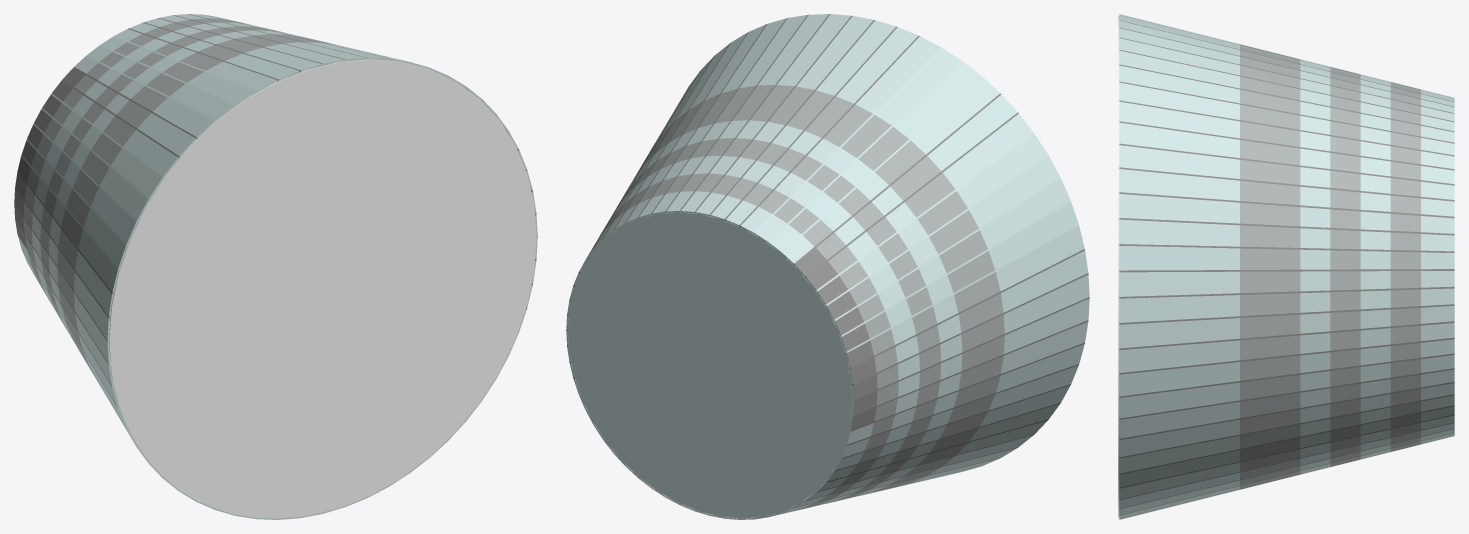
Rendered from observatory.gltf.
3 renders of one model, left to right at view 1: azimuth 30°, elevation 25°; view 2: azimuth 150°, elevation 25°; view 3: azimuth 270°, elevation 25°, orthographic.
Parts seen in each view (by area): view 1: ボディ769; view 2: ボディ768, 柱 (1) (3) (1), 柱 (3) (1), 柱 (1) (1) (2) (1), 柱 (1) (1) (1) (1) (1) (1), 柱 (1) (1) (1) (2) (1), 柱 (1) (1) (1) (1) (3), 窓 (6) (4) (1), 窓 (6) (2) (1) (2), 窓 (6) (1) (1) (1) (1) (2), 窓 (6) (1) (2) (1), 柱 (2) (1) (1); view 3: ボディ769, 柱 (1) (1) (1), 柱 (1) (1) (1) (1), 柱 (1) (2), 柱 (1) (1), 柱 (2), 柱 (1) (1) (1) (1) (1), 柱 (1), 窓 (6) (3), 窓 (6) (1) (1) (1), 窓 (6) (1) (1), 柱 (3) (+212 smaller).
Part boxes in pixels (x1,y1,x2,y2): ボディ769: (109, 59, 536, 518); ボディ768: (567, 212, 852, 518); 柱 (1) (3) (1): (825, 154, 1048, 306); 柱 (3) (1): (816, 133, 1034, 291); 柱 (1) (1) (2) (1): (833, 177, 1060, 321); 柱 (1) (1) (1) (1) (1) (1): (805, 112, 1018, 277); 柱 (1) (1) (1) (2) (1): (840, 201, 1070, 337); 柱 (1) (1) (1) (1) (3): (793, 93, 1001, 265); 窓 (6) (4) (1): (1015, 134, 1047, 167); 窓 (6) (2) (1) (2): (983, 94, 1017, 126); 窓 (6) (1) (1) (1) (1) (2): (1000, 114, 1033, 146); 窓 (6) (1) (2) (1): (1029, 156, 1059, 189); 柱 (2) (1) (1): (845, 225, 1079, 353); ボディ769: (1118, 16, 1119, 517); 柱 (1) (1) (1): (1119, 286, 1454, 298); 柱 (1) (1) (1) (1): (1119, 218, 1454, 235); 柱 (1) (2): (1119, 244, 1454, 252); 柱 (1) (1): (1119, 304, 1454, 324); 柱 (2): (1119, 269, 1454, 272); 柱 (1) (1) (1) (1) (1): (1119, 192, 1454, 218); 柱 (1): (1119, 321, 1454, 350); 窓 (6) (3): (1119, 246, 1149, 270); 窓 (6) (1) (1) (1): (1119, 219, 1149, 244); 窓 (6) (1) (1): (1119, 272, 1149, 296); 柱 (3): (1119, 167, 1454, 201).
Bounding box in the file's own units: 60.39 × 60.39 × 40.1.
